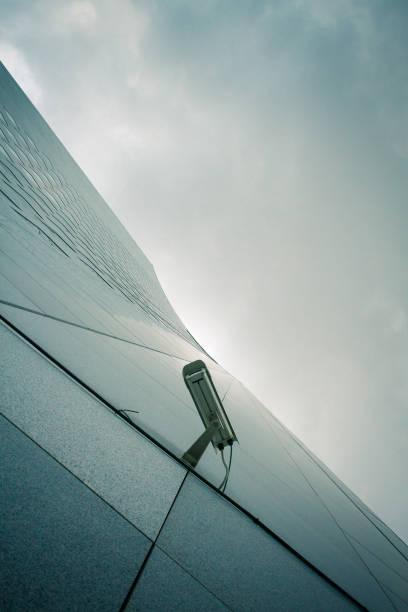camera: (162, 357, 255, 467)
